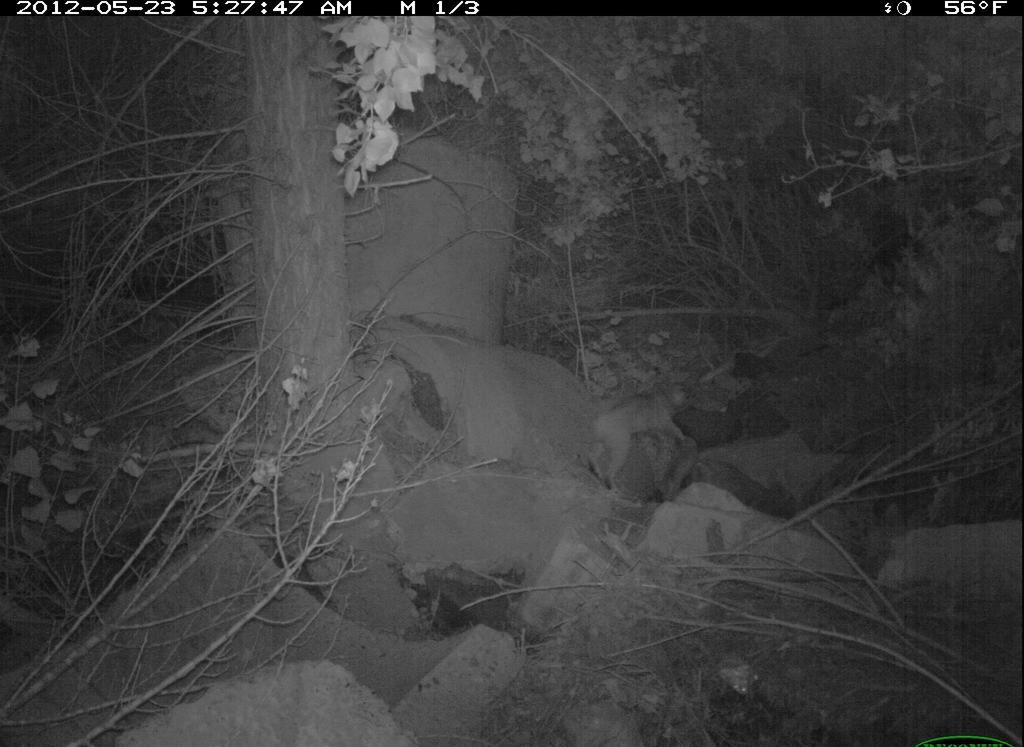bobcat: (583, 364, 705, 492)
